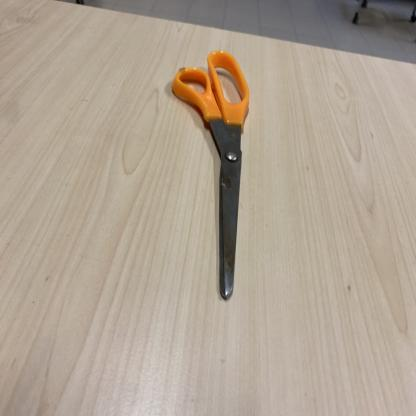scissors: (171, 47, 253, 302)
